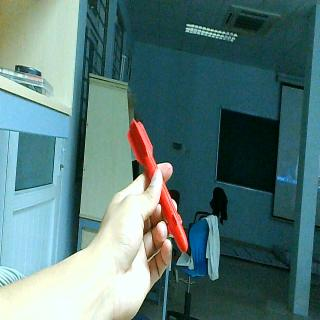Rocket: (126, 117, 188, 254)
